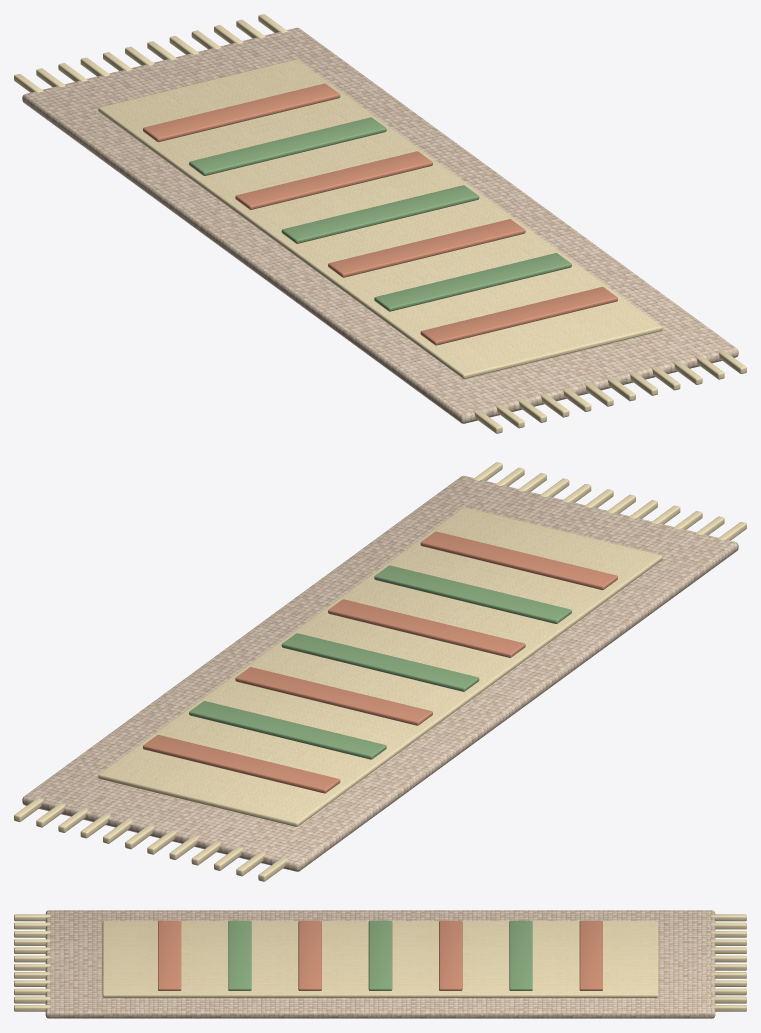
Rendered from runner-rug.glb.
The picture shows the model from 3 angles, top to bottom: view 1: azimuth 30°, elevation 25°; view 2: azimuth 150°, elevation 25°; view 3: azimuth 270°, elevation 25°; orthographic projection. The views are drawn at different scales.
Parts seen in each view (by area): view 1: runner-rug; view 2: runner-rug; view 3: runner-rug.
Part boxes in pixels (box(x1,y1,x2,y2)): runner-rug: box(14, 14, 746, 433); runner-rug: box(14, 462, 746, 881); runner-rug: box(14, 910, 746, 1018).
Bounding box in the file's own units: 0.8 × 0.0495 × 2.41.
4 materials, 2 textured.
